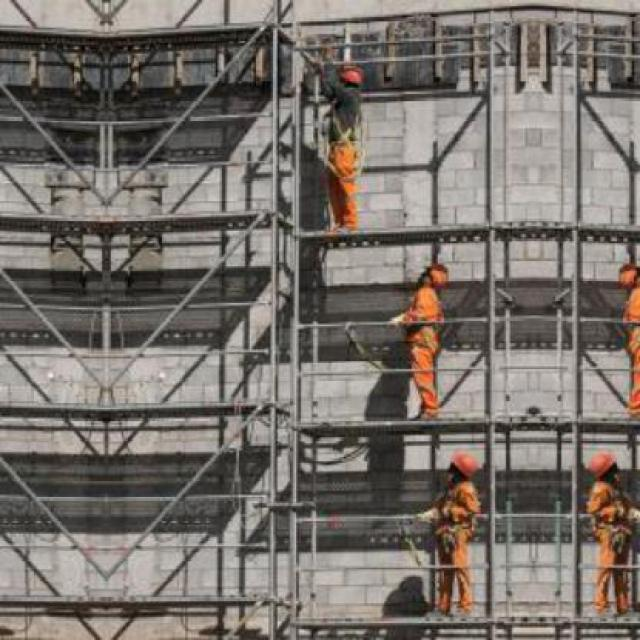helmet: (444, 442, 484, 478), (330, 59, 370, 95), (582, 442, 622, 478), (415, 260, 450, 294), (614, 260, 637, 295)
